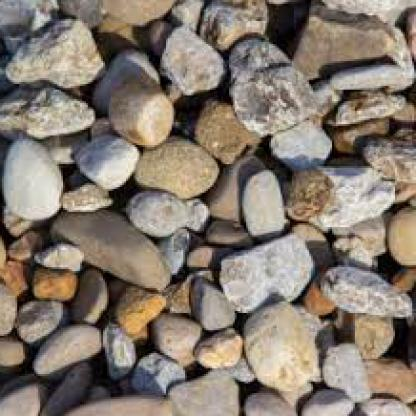Metamorphic_Marble: (52, 208, 185, 294), (294, 4, 414, 99), (229, 298, 328, 402), (221, 40, 313, 134), (279, 151, 391, 227), (0, 86, 120, 153), (216, 236, 318, 314), (315, 258, 412, 328), (4, 21, 103, 86), (0, 136, 73, 224), (156, 17, 224, 97), (132, 136, 221, 197), (112, 70, 176, 150), (23, 320, 107, 378), (164, 368, 242, 414), (235, 166, 286, 235), (111, 282, 170, 338), (147, 311, 210, 359)
